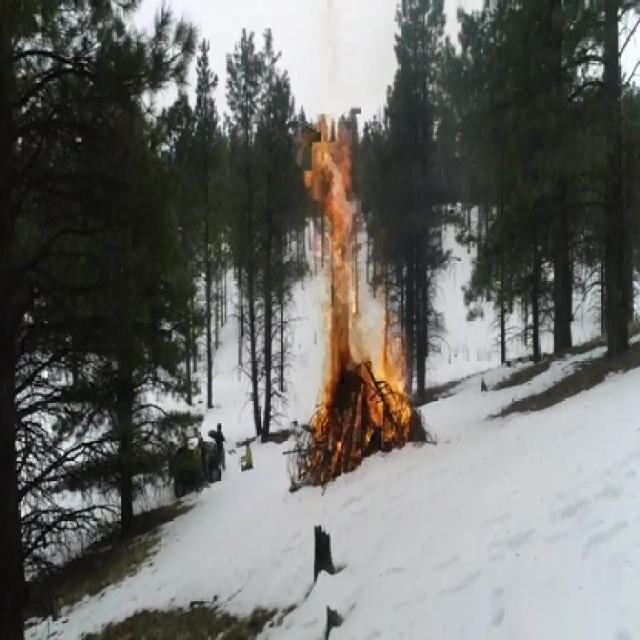Fire: (308, 126, 414, 477)
